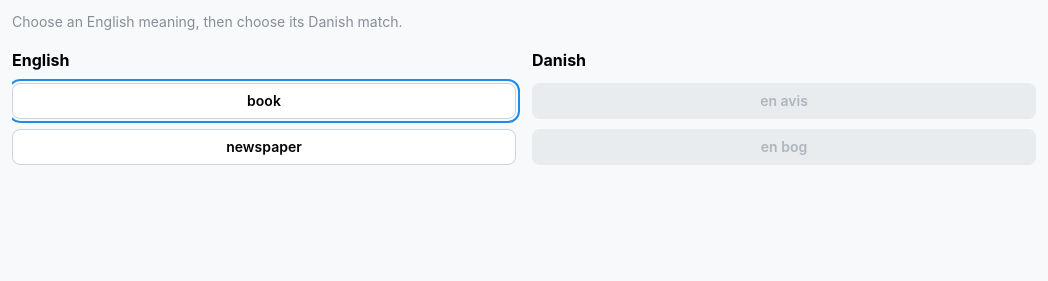
MatchingPrompt › forms and removes pairs with native keyboard buttons while preserving language metadata
The image size is (1048, 281).
Press Enter
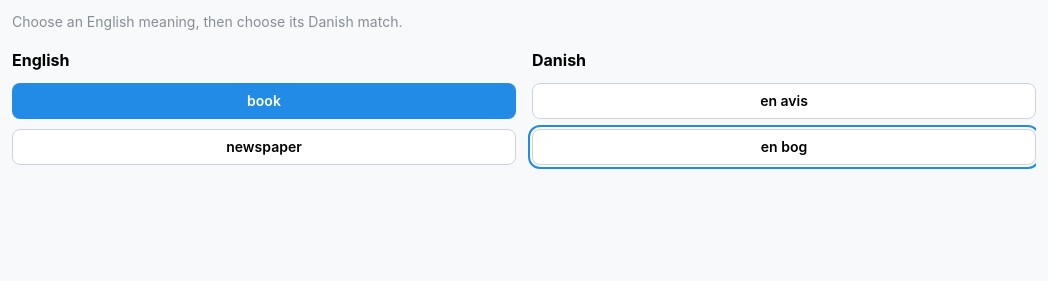
Now the button "en bog" is enabled, box x1=532 y1=129 x2=1036 y2=165
Press Enter
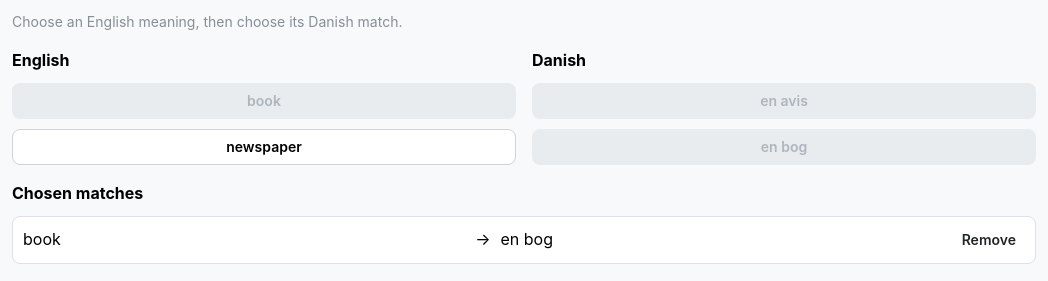
Now the element named "Chosen match for book" shows "en bog", box x1=500 y1=230 x2=553 y2=250
Now the button "book" is disabled, box x1=12 y1=83 x2=516 y2=119
Click the button with aria-label "Remove match for book". click: point(989, 240)
box: x1=953 y1=227 x2=1025 y2=253
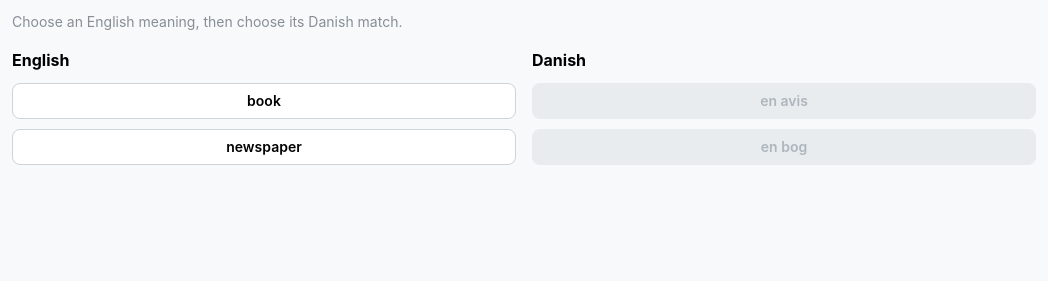
Now the text "Chosen matches" is gone
Now the button "book" is enabled, box x1=12 y1=83 x2=516 y2=119
